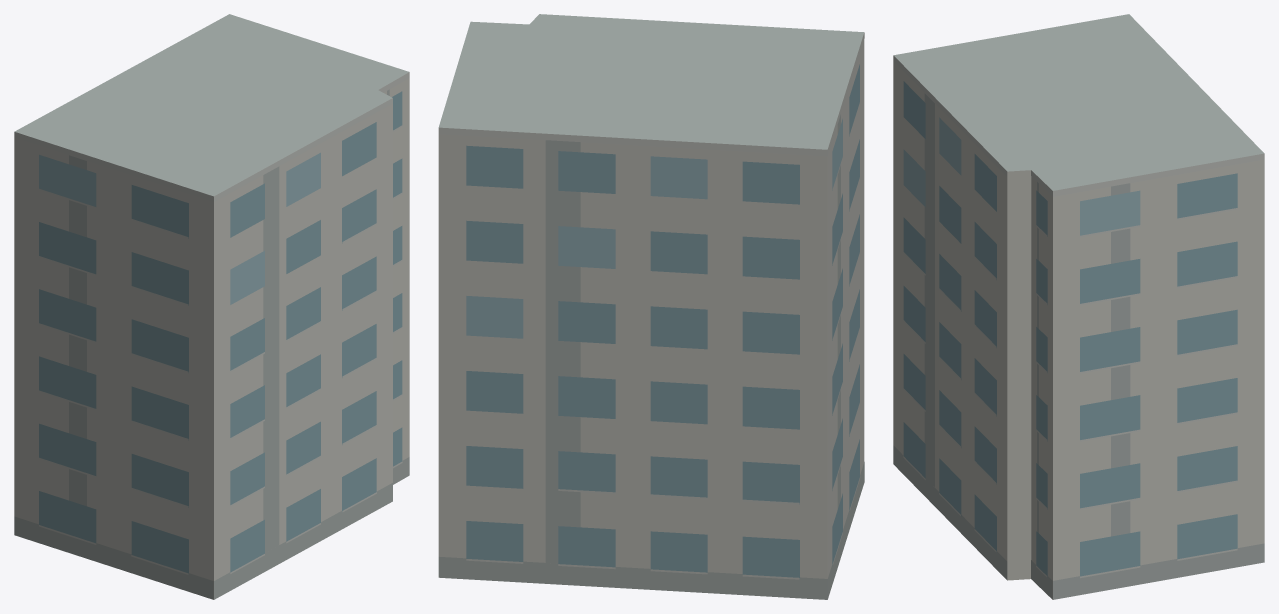
File: survey-upis-32848832.glb
The picture shows the model from 3 angles, left to right: view 1: azimuth 30°, elevation 25°; view 2: azimuth 150°, elevation 25°; view 3: azimuth 270°, elevation 25°; orthographic projection. The views are drawn at different scales.
Parts seen in each view (by area): view 1: survey-upis-32848832.tmp; view 2: survey-upis-32848832.tmp; view 3: survey-upis-32848832.tmp.
Boxes of the visible parts, bbox=[...] form: survey-upis-32848832.tmp: bbox=[14, 14, 409, 599]; survey-upis-32848832.tmp: bbox=[438, 14, 864, 599]; survey-upis-32848832.tmp: bbox=[893, 14, 1264, 599].
Size of the model in its own units: 15.69 by 16.9 by 13.91.
